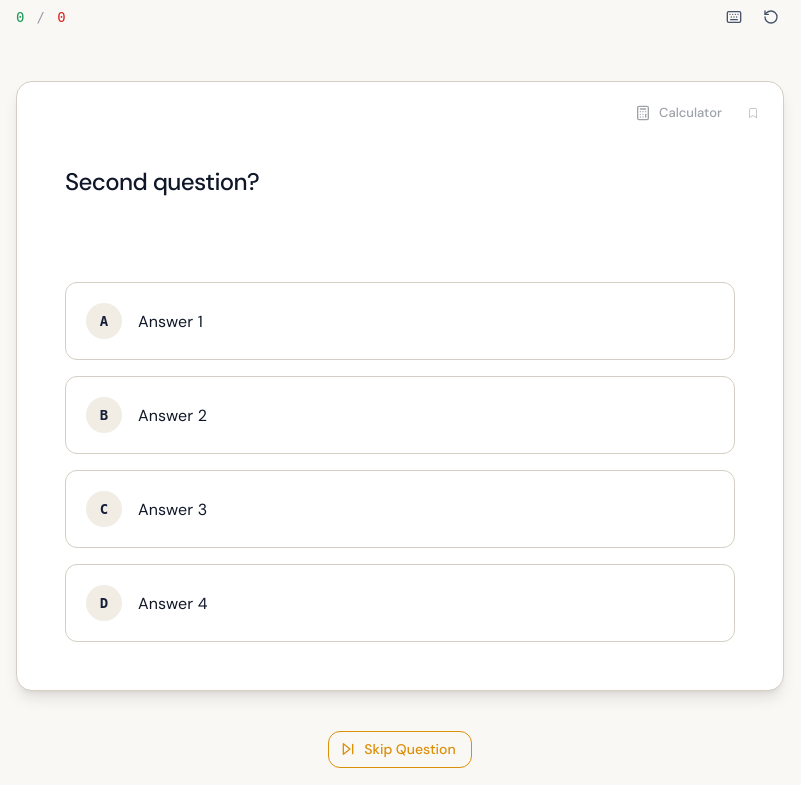
RandomPractice › Question Wraparound › resets progress when all questions have been seen and user skips
(page scrolled)
Note: Skip first question - should show "Question 2 of 2"
What coordinates should you click on to do the following:
click the button "Skip Question"
I would click on:
 (400, 749)
Its box is x1=328 y1=731 x2=472 y2=768.
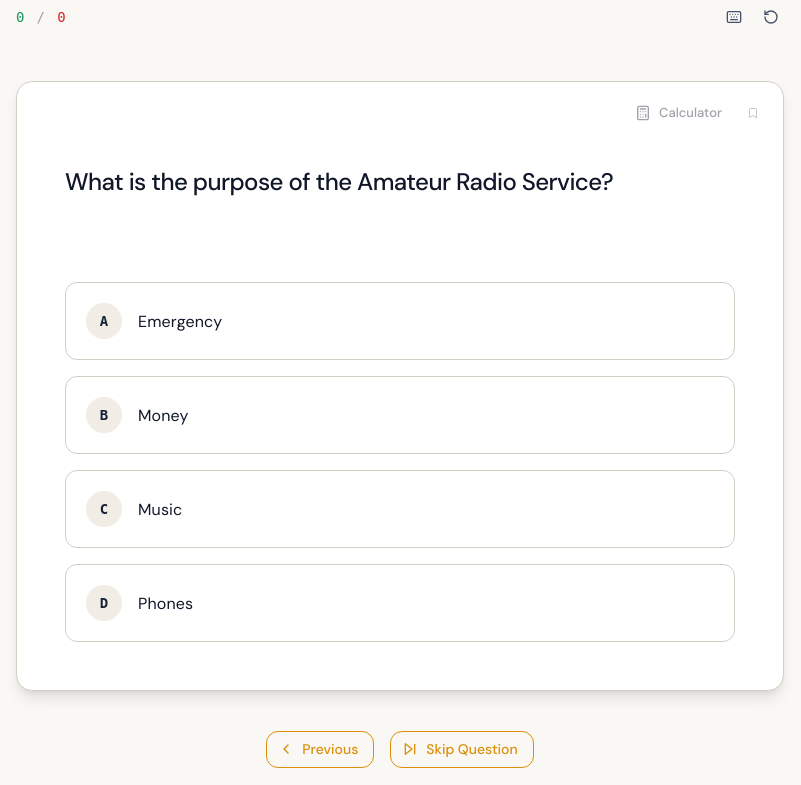
Note: Skip second question - this should wrap around and reset
What coordinates should you click on to do the following:
click the button "Skip Question"
I would click on:
 (462, 749)
Its box is x1=390 y1=731 x2=534 y2=768.
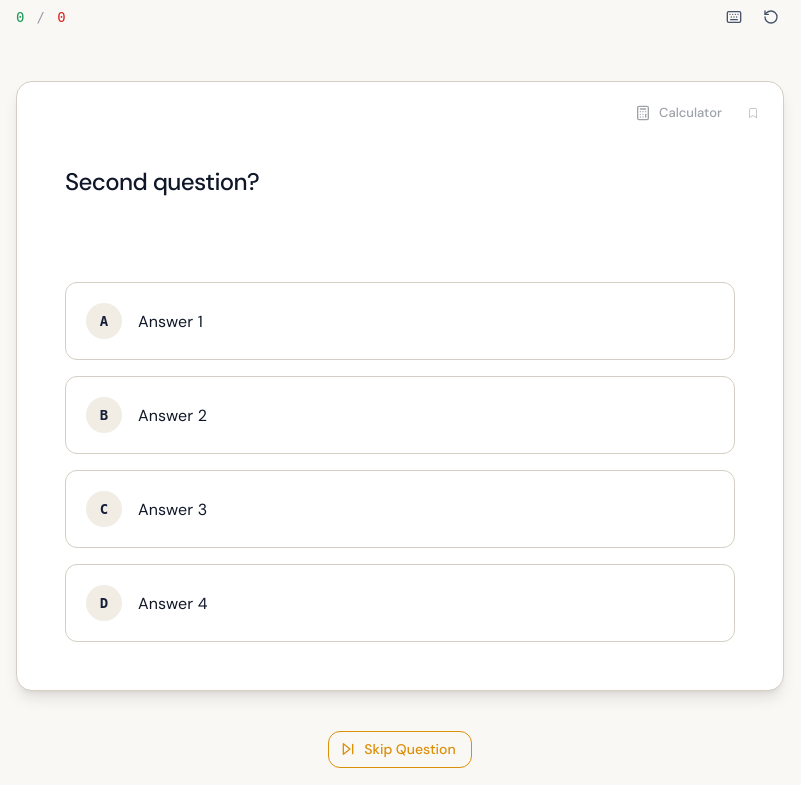
Expected: the button "Previous" is gone
